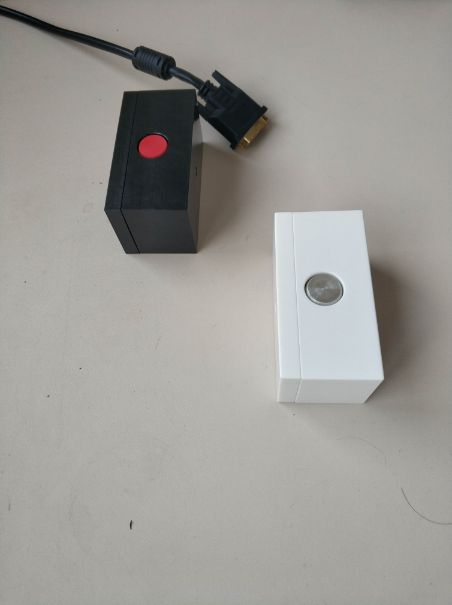black+black+red: (101, 86, 206, 258)
white+white+silver: (268, 208, 388, 406)
